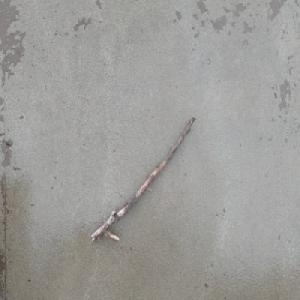Wood: (89, 114, 197, 243)
